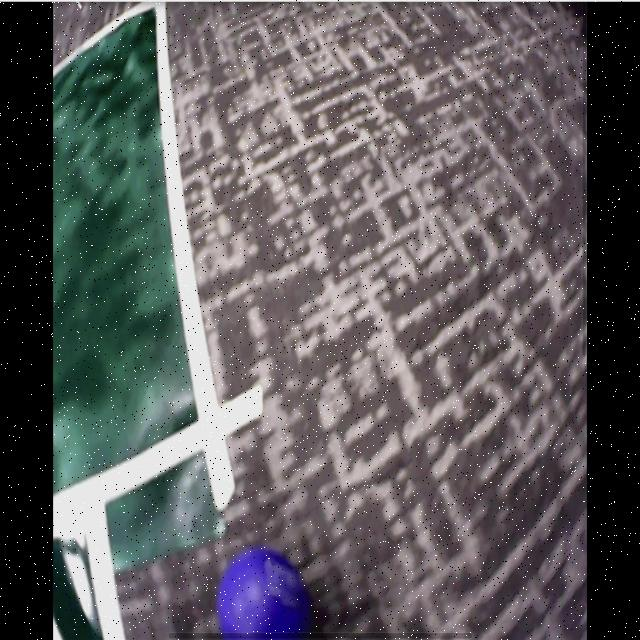ball: (221, 550, 309, 640)
